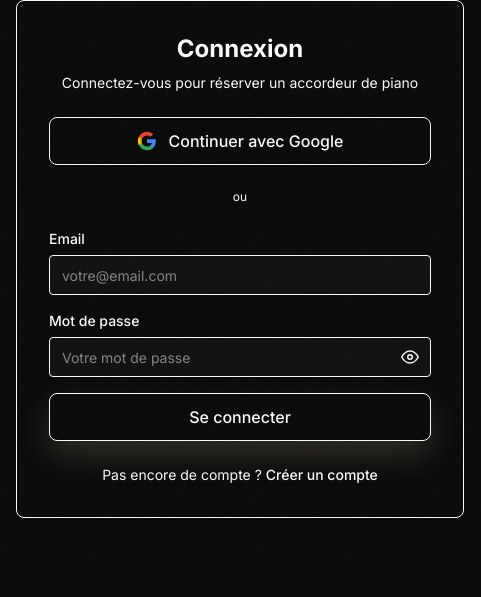
Scenario: Login › affiche un message d'erreur si la connexion Google échoue
This screenshot has width=481, height=597.
Click the button "Continuer avec Google": (240, 141) [49,117,431,165]
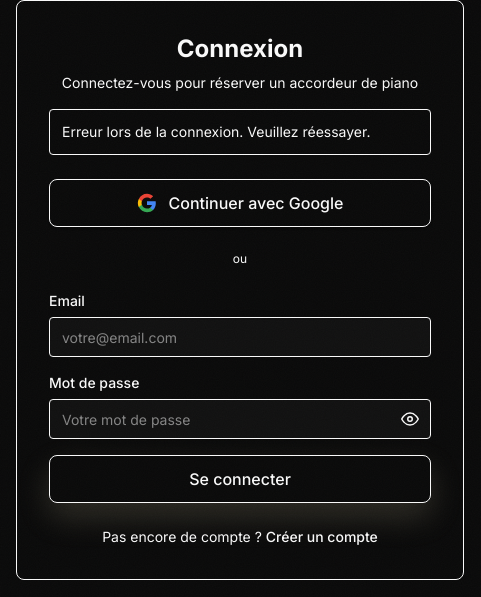
Check: the message shows "Erreur", box [62,123,370,140]
